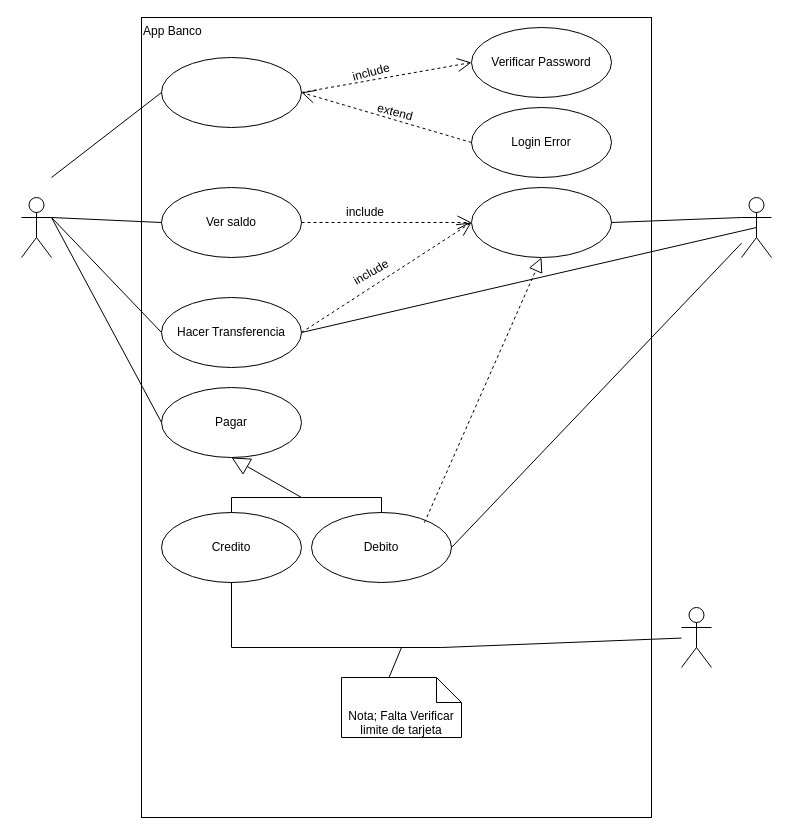
Some shapes in this 791 by 835 pixel diagram are drawn without their labels. The box of each missing label's shape, as (x1, y1, x2, y2) in pixels:
Banco: (740, 196, 772, 258)
Login Usuario: (160, 56, 302, 128)
Tarjeta: (680, 606, 712, 668)
usuario: (20, 196, 52, 258)
Verificar Saldo: (470, 186, 612, 258)
